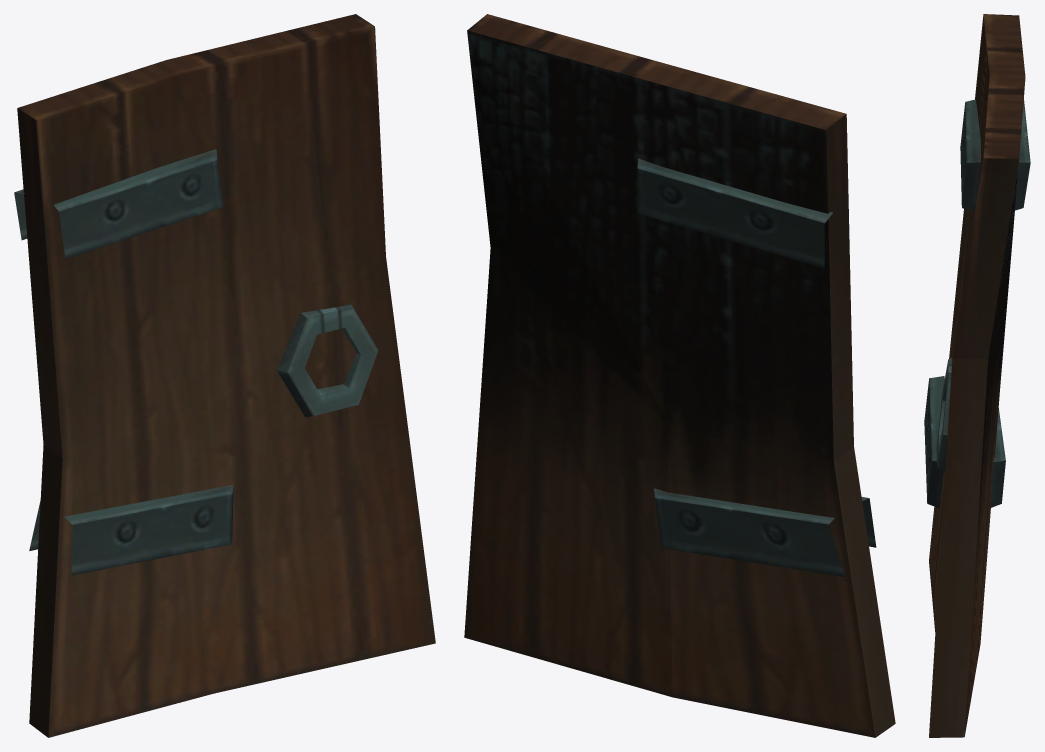
The model's file is bandit_hut_door_01.fbx.
The picture shows the model from 3 angles, left to right: view 1: azimuth 30°, elevation 25°; view 2: azimuth 150°, elevation 25°; view 3: azimuth 270°, elevation 25°; orthographic projection. The views are drawn at different scales.
Parts seen in each view (by area): view 1: obj1.149; view 2: obj1.149; view 3: obj1.149.
Part boxes in pixels (<box>): obj1.149: <box>14,14,435,737</box>; obj1.149: <box>464,14,895,737</box>; obj1.149: <box>924,14,1030,737</box>.
Size of the model in its own units: 2.03 by 3.02 by 0.5147.
